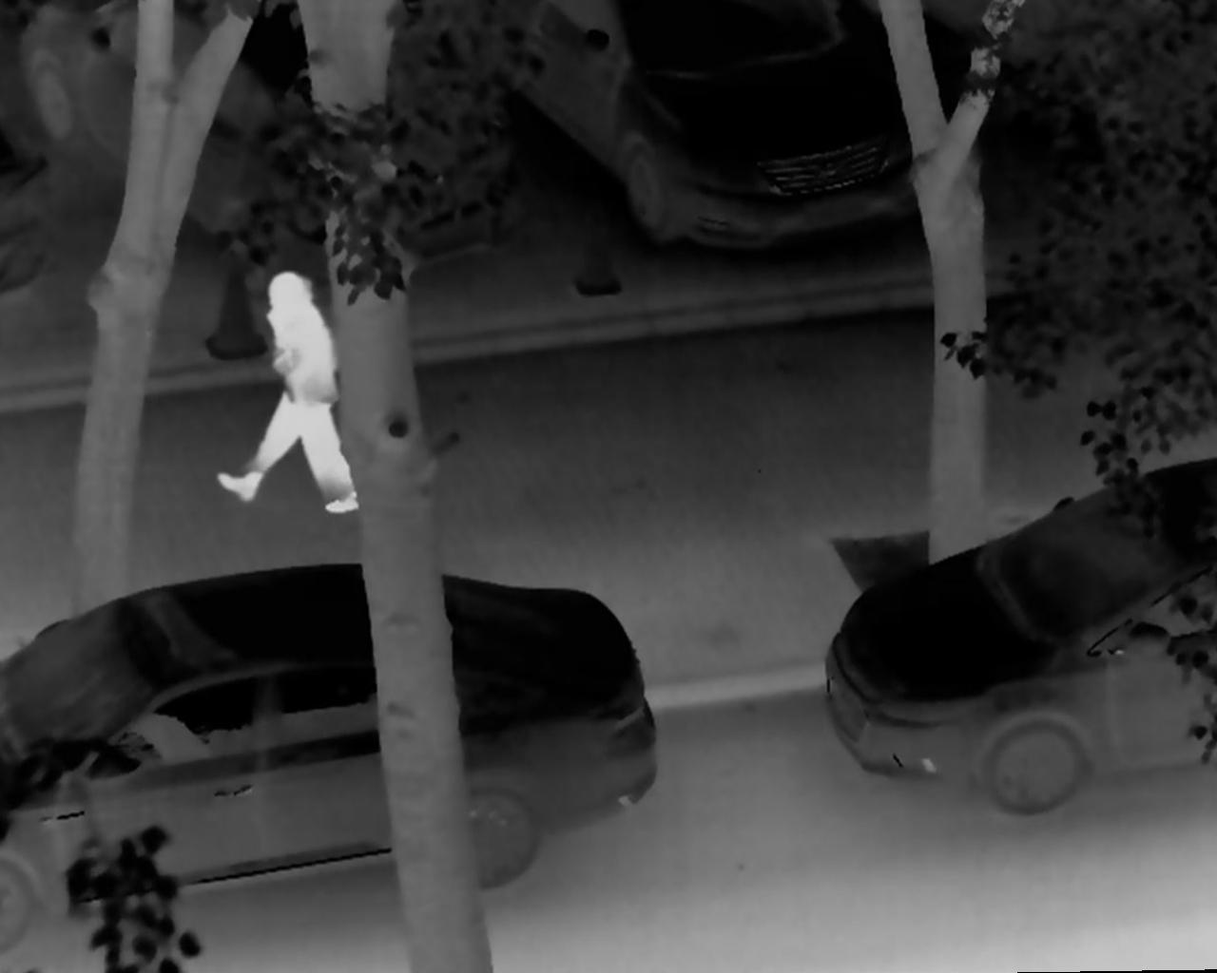person: (220, 270, 358, 518)
